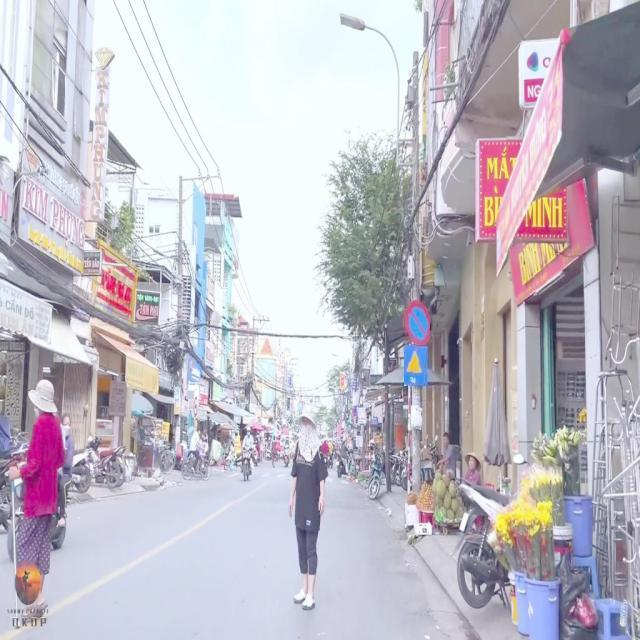131a-cam-do-xe: (402, 298, 434, 346)
442-cho: (404, 344, 428, 386)
